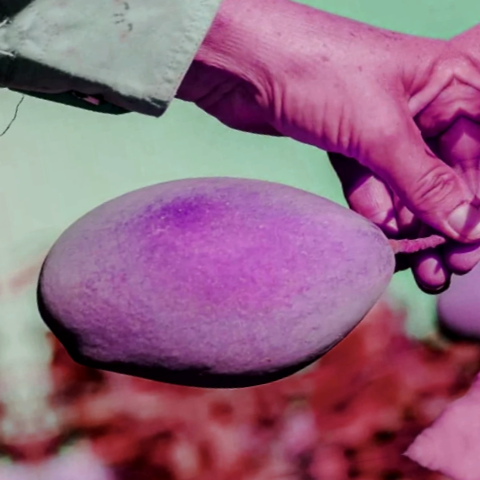mango: (13, 124, 431, 448)
